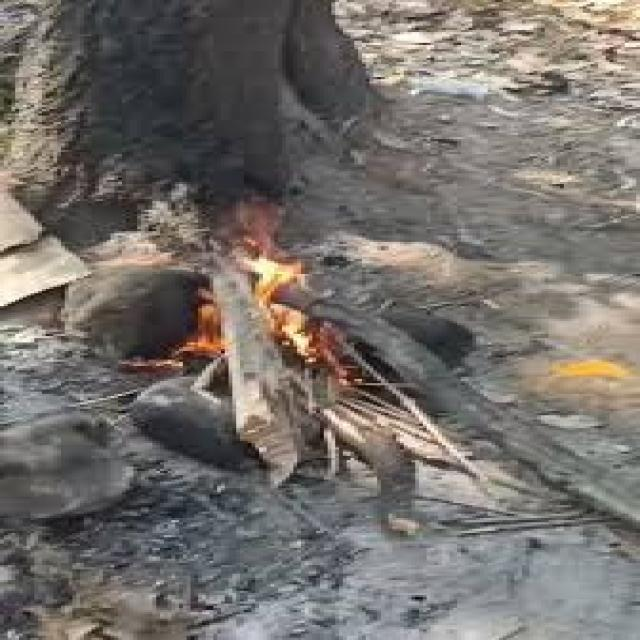fire: (238, 250, 298, 303), (264, 304, 312, 358), (181, 304, 223, 354)
